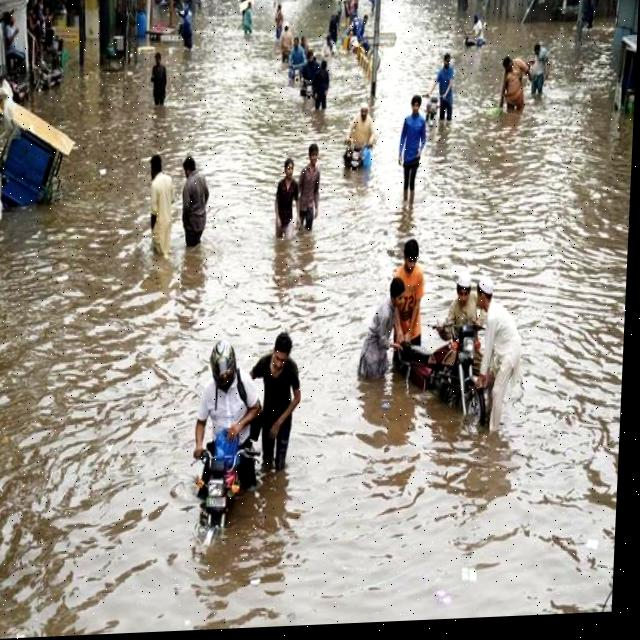civilian: (464, 265, 526, 449), (184, 342, 259, 477), (247, 324, 311, 476), (124, 149, 186, 263), (292, 135, 343, 252), (359, 267, 407, 389), (167, 148, 214, 257), (395, 89, 436, 211), (392, 241, 437, 348), (334, 93, 389, 179), (425, 44, 473, 134), (262, 150, 308, 240), (441, 255, 481, 344), (141, 45, 188, 117), (493, 48, 530, 124), (521, 35, 558, 104), (307, 54, 339, 113), (238, 0, 264, 44), (267, 0, 295, 40), (285, 32, 306, 77), (468, 8, 491, 43), (353, 8, 374, 41)
